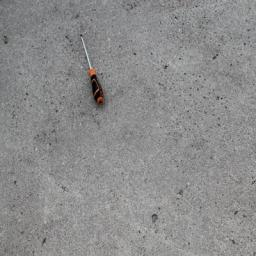FOD: (80, 33, 108, 107)
